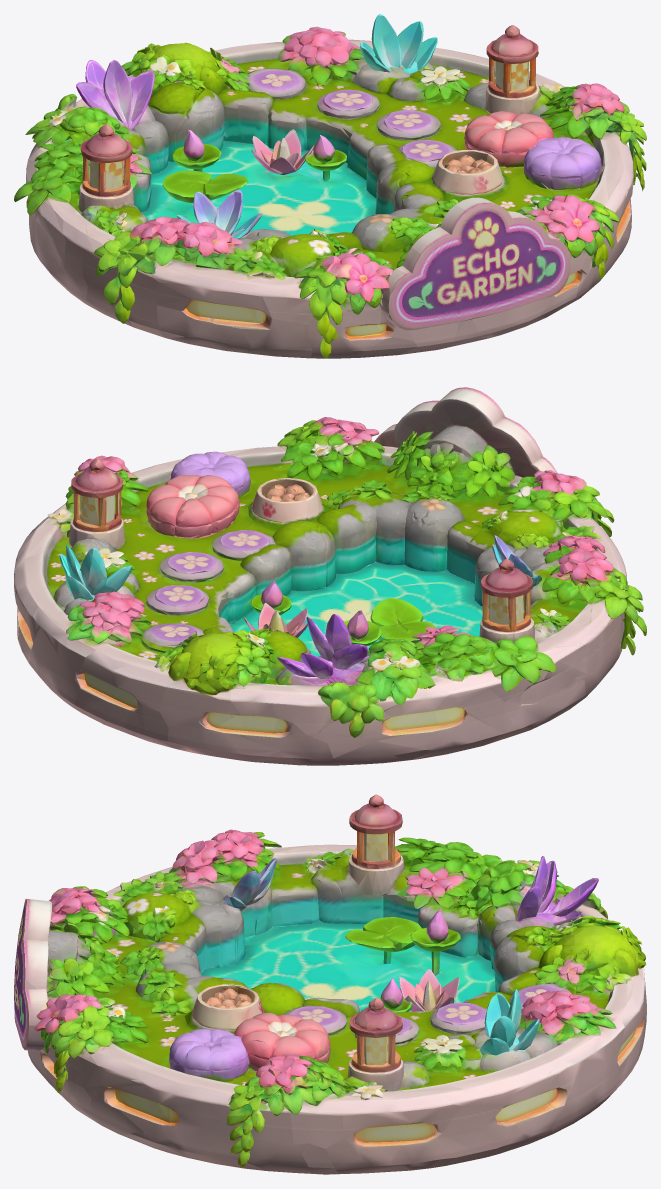
Rendered from city-echo.glb.
The picture shows the model from 3 angles, top to bottom: view 1: azimuth 30°, elevation 25°; view 2: azimuth 150°, elevation 25°; view 3: azimuth 270°, elevation 25°; orthographic projection. The views are drawn at different scales.
Size of the model in its own units: 1.9 by 0.4855 by 1.84.
Materials: 1 (1 with a texture image).
